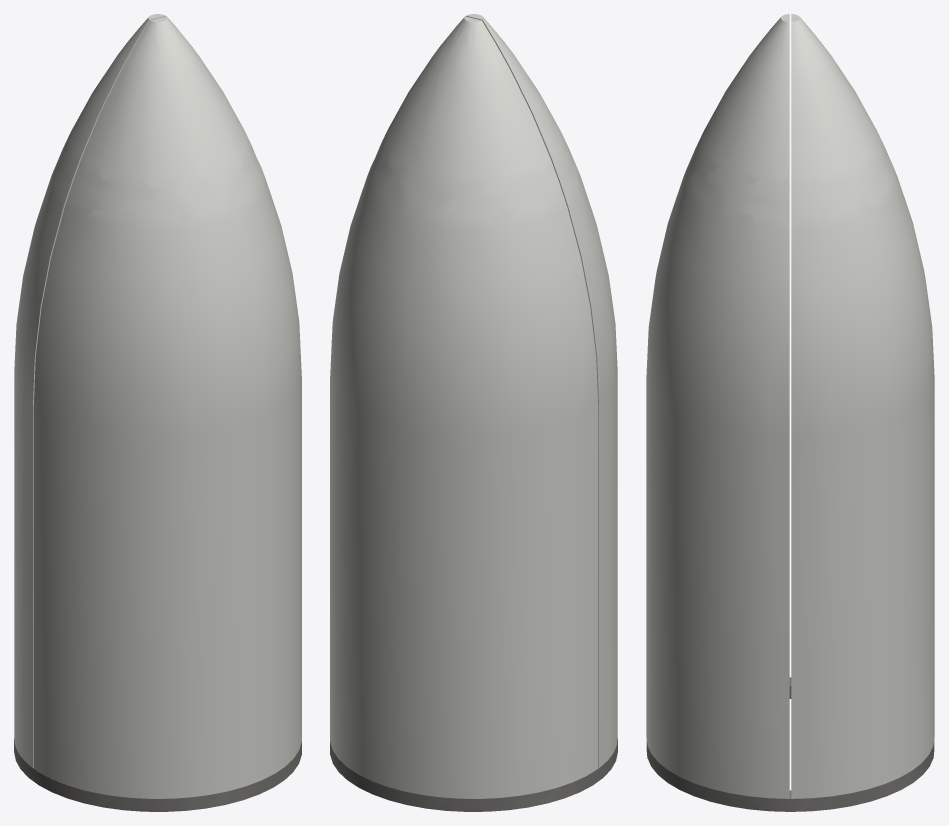
The model's file is stage04_fairing_l.glb.
3 views of the same model, side by side, from view 1: azimuth 30°, elevation 25°; view 2: azimuth 150°, elevation 25°; view 3: azimuth 270°, elevation 25° (orthographic).
Parts seen in each view (by area): view 1: half_b, half_a, base_ring; view 2: half_a, half_b, base_ring; view 3: half_a, half_b, base_ring.
Part boxes in pixels (box(x1,y1,x2,y2)): half_b: box(33, 16, 301, 798); half_a: box(14, 14, 166, 767); base_ring: box(14, 738, 301, 811); half_a: box(330, 16, 598, 798); half_b: box(465, 14, 617, 767); base_ring: box(330, 738, 617, 811); half_a: box(791, 14, 934, 798); half_b: box(646, 14, 789, 798); base_ring: box(646, 677, 934, 811).
Size of the model in its own units: 3.75 by 10.53 by 3.75.
2 materials, 1 textured.
